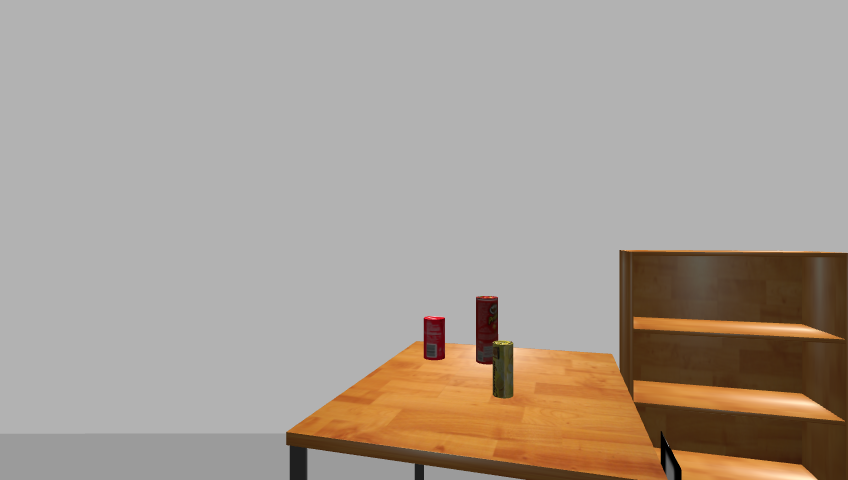aruco marker: (656, 432, 685, 480)
biscuits pack: (493, 340, 516, 399)
bookshelf: (613, 248, 848, 479)
coke can: (421, 316, 447, 361)
dinner table: (280, 340, 666, 480)
pringles can: (473, 295, 500, 367)
